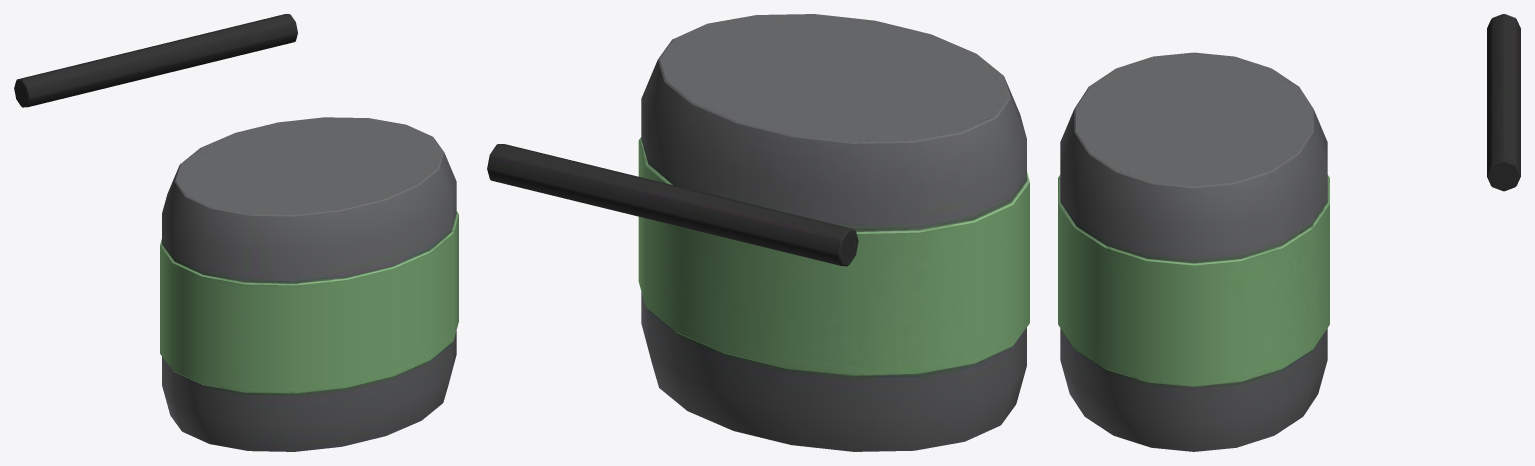
File: IT_can_tuna.glb
The picture shows the model from 3 angles, left to right: view 1: azimuth 30°, elevation 25°; view 2: azimuth 150°, elevation 25°; view 3: azimuth 270°, elevation 25°; orthographic projection. The views are drawn at different scales.
Visible parts, largest first — view 1: IT_can_tuna; view 2: IT_can_tuna; view 3: IT_can_tuna.
Part boxes in pixels (x1,y1,x2,y2): IT_can_tuna: [14, 14, 458, 451]; IT_can_tuna: [487, 14, 1029, 451]; IT_can_tuna: [1058, 14, 1520, 451].
Bounding box in the file's own units: 0.3825 × 0.3275 × 0.4779.
1 material, 1 textured.
